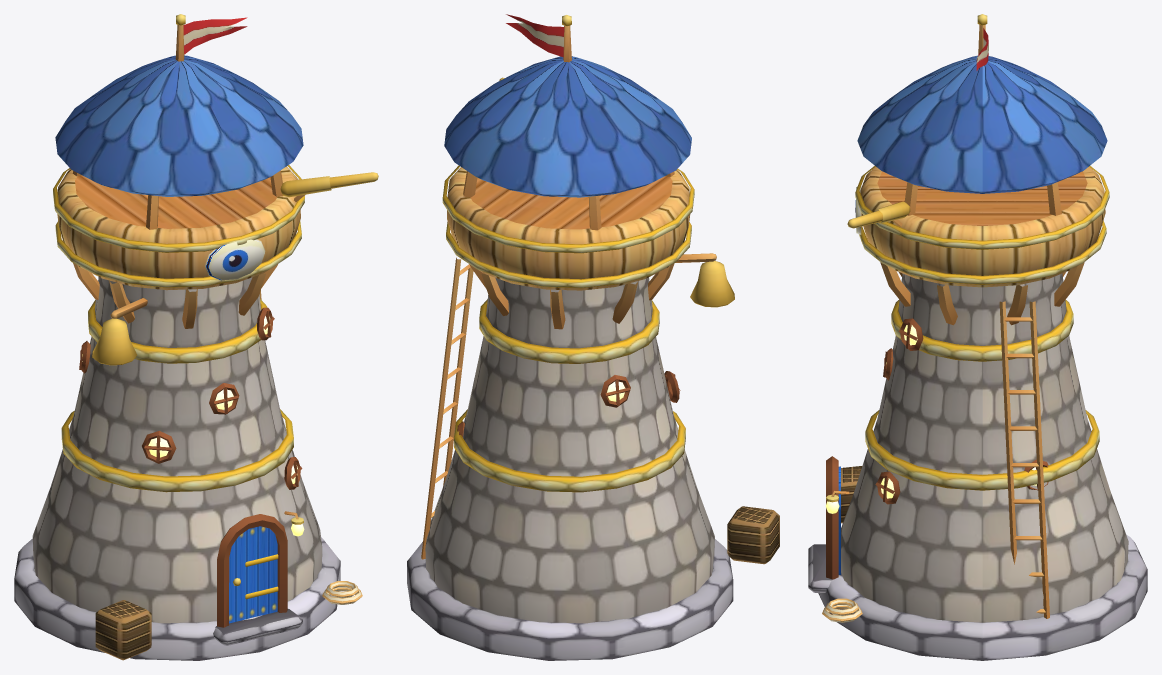
Rendered from watchtower.glb.
The picture shows the model from 3 angles, left to right: view 1: azimuth 30°, elevation 25°; view 2: azimuth 150°, elevation 25°; view 3: azimuth 270°, elevation 25°; orthographic projection.
Visible parts, largest first — view 1: watchtower; view 2: watchtower; view 3: watchtower.
Boxes of the visible parts, <box> form: watchtower: <box>14,14,378,660</box>; watchtower: <box>407,14,779,660</box>; watchtower: <box>808,14,1147,660</box>.
Size of the model in its own units: 6.6 by 12.76 by 6.78.
4 materials, 4 textured.
